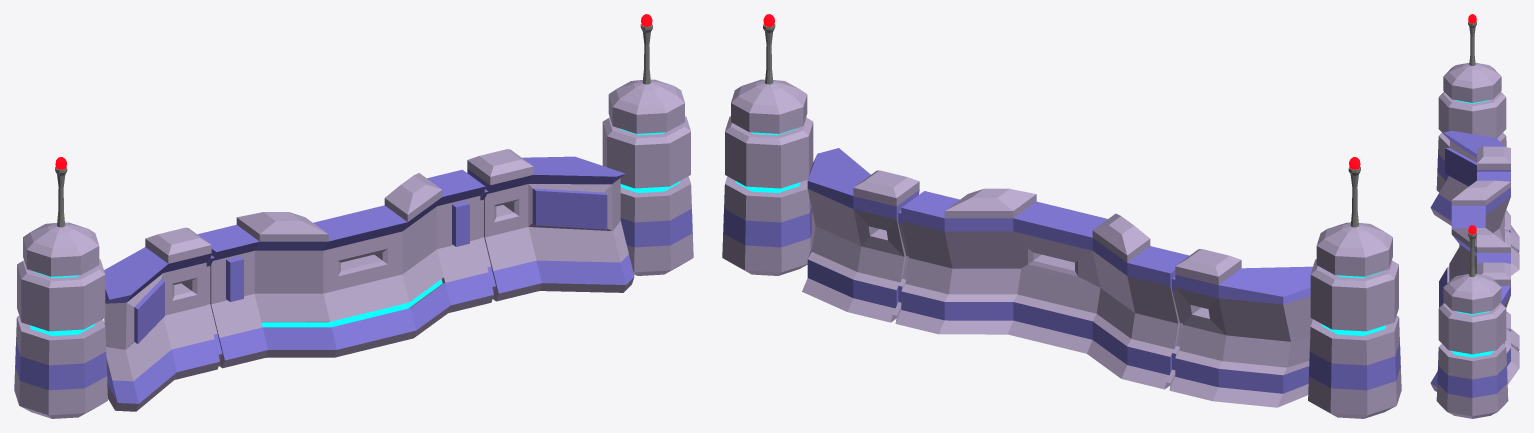
The model's file is Barricade.fbx.
3 renders of one model, left to right at view 1: azimuth 30°, elevation 25°; view 2: azimuth 150°, elevation 25°; view 3: azimuth 270°, elevation 25°, orthographic. The views are drawn at different scales.
Parts seen in each view (by area): view 1: Cube, Cylinder, Cube.001, Cube.002, Cylinder.003, Cylinder.001, Cylinder.002; view 2: Cube, Cylinder, Cube.001, Cylinder.003, Cylinder.002, Cylinder.001; view 3: Cylinder, Cube, Cube.001, Cylinder.003, Cube.002, Cylinder.002, Cylinder.001, Icosphere.
Part boxes in pixels (bbox=[...]): Cube: bbox=[104, 149, 634, 411]; Cylinder: bbox=[14, 79, 693, 418]; Cube.001: bbox=[104, 156, 634, 403]; Cube.002: bbox=[134, 188, 607, 343]; Cylinder.003: bbox=[15, 208, 692, 390]; Cylinder.001: bbox=[30, 128, 680, 335]; Cylinder.002: bbox=[55, 24, 652, 227]; Cube: bbox=[802, 170, 1312, 407]; Cylinder: bbox=[722, 79, 1401, 418]; Cube.001: bbox=[807, 148, 1312, 393]; Cylinder.003: bbox=[723, 207, 1400, 390]; Cylinder.002: bbox=[763, 24, 1360, 227]; Cylinder.001: bbox=[735, 128, 1385, 335]; Cylinder: bbox=[1436, 63, 1508, 418]; Cube: bbox=[1430, 141, 1519, 391]; Cube.001: bbox=[1430, 130, 1510, 386]; Cylinder.003: bbox=[1437, 154, 1507, 397]; Cube.002: bbox=[1445, 148, 1477, 186]; Cylinder.002: bbox=[1468, 21, 1476, 277]; Cylinder.001: bbox=[1451, 100, 1493, 357]; Icosphere: bbox=[1468, 14, 1476, 234].
Size of the model in its own units: 2507 by 886 by 391.
